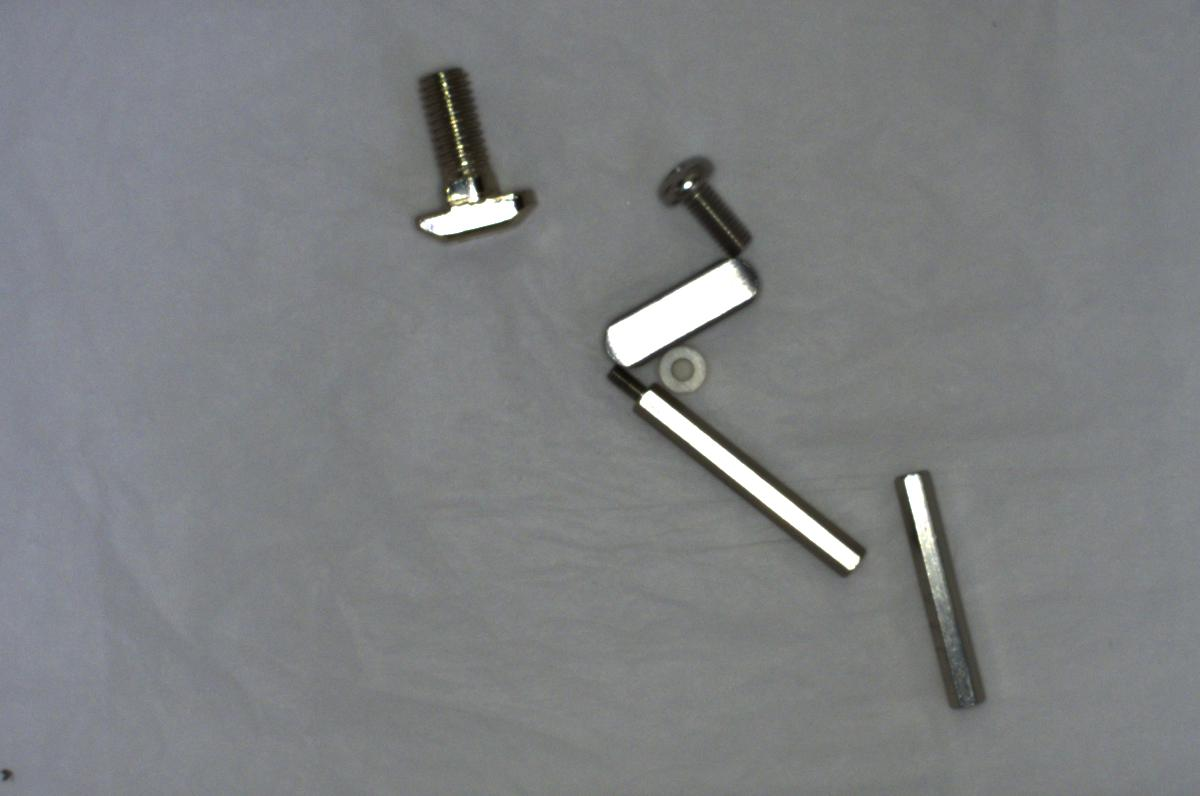Double hexagonal column: (891, 448, 993, 712)
Hexagonal steel column: (603, 360, 870, 574)
Keybar: (598, 249, 765, 372)
Plastic cushion pillar: (655, 340, 708, 401)
Round head screw: (653, 150, 757, 258)
T-shaped screw: (405, 58, 537, 241)
